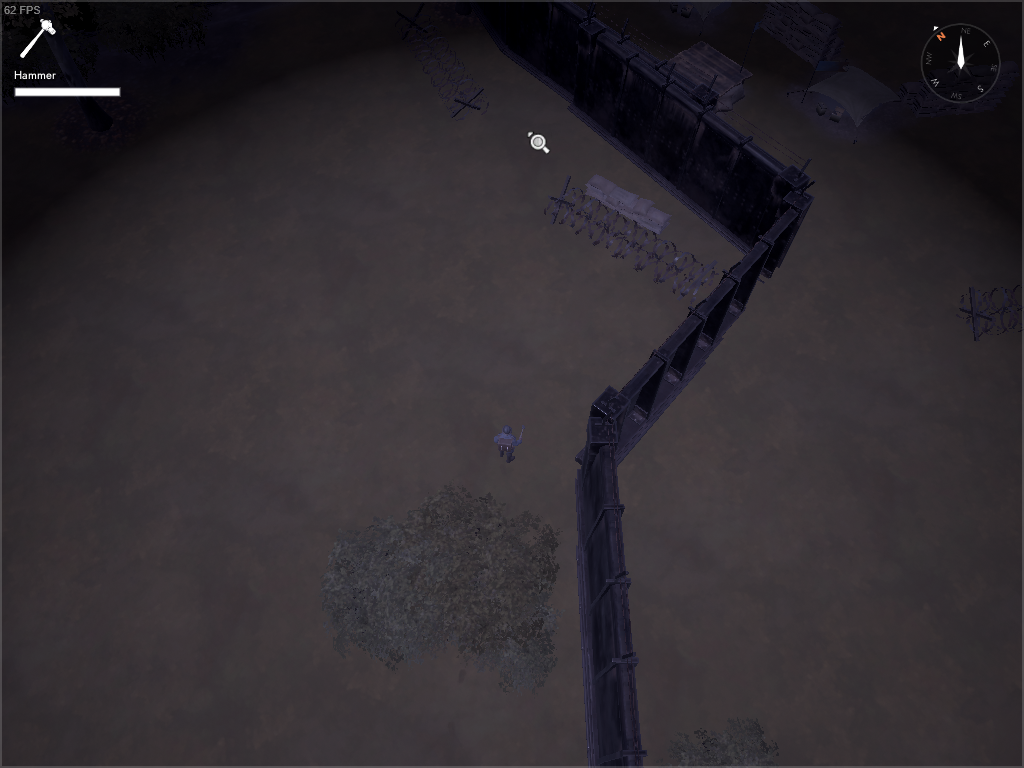fortified_wall: (575, 172, 816, 478), (560, 7, 820, 263), (575, 403, 650, 768), (469, 1, 623, 109)
foxhole: (788, 53, 909, 147)
pillbox: (650, 39, 755, 117)
player: (490, 422, 527, 463)
sandbag: (751, 1, 842, 72)
wire: (541, 174, 726, 307), (382, 1, 493, 125), (954, 262, 1024, 346)
